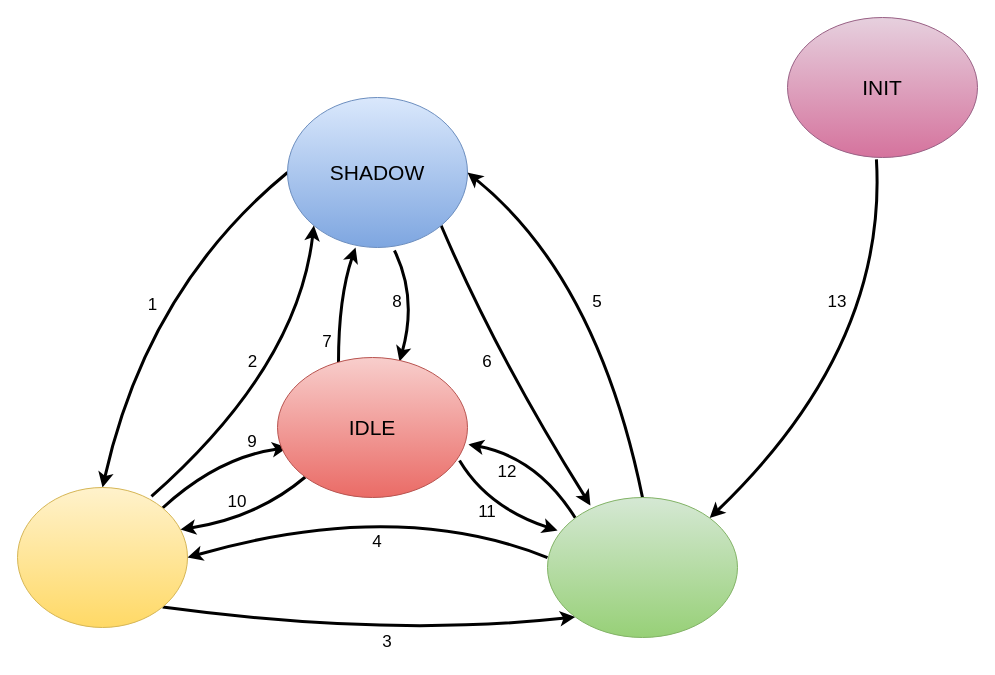
Some shapes in this 995 by 675 pixel diagram are drawn without their labels. The shapes that lost their labels are listed below. From the top down, each one's centre as x and y in pixels, then its label:
the point at 102,557: ANDROID
the point at 642,567: AUTO
